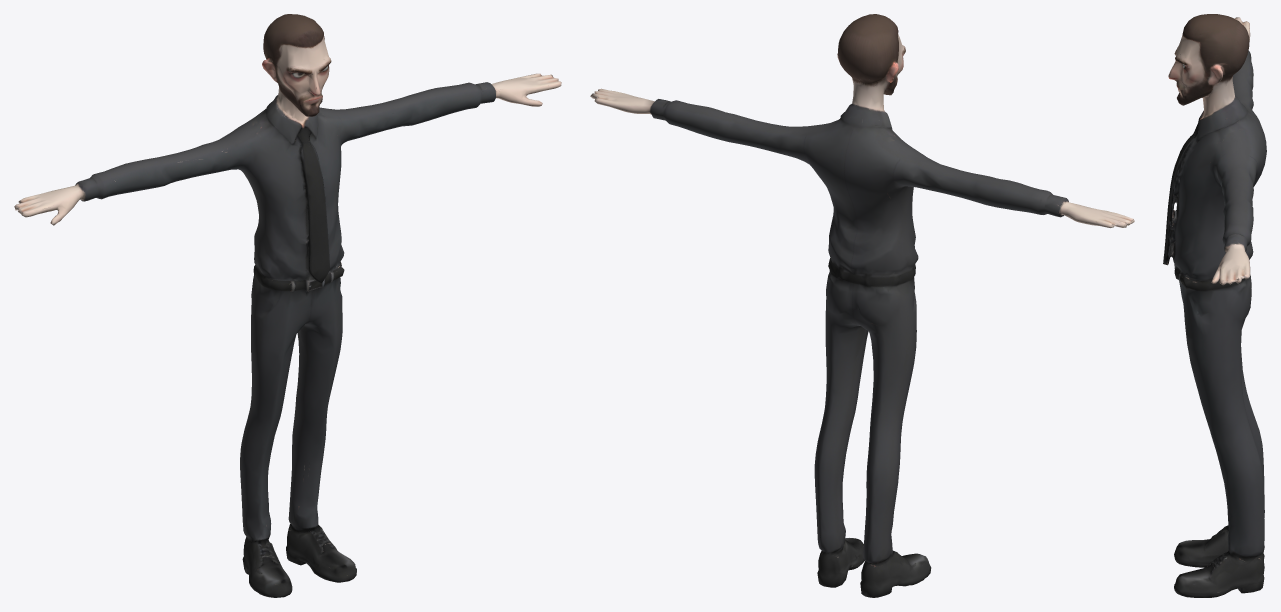
Rendered from Meshy_AI_Mysterious_Figure_in__0108085110_texture.fbx.
3 views of the same model, side by side, from view 1: azimuth 30°, elevation 25°; view 2: azimuth 150°, elevation 25°; view 3: azimuth 270°, elevation 25° (orthographic).
Visible parts, largest first — view 1: Mesh_0; view 2: Mesh_0; view 3: Mesh_0.
Boxes of the visible parts, left/top/right/bottom form: Mesh_0: left=14, top=14, right=561, bottom=597; Mesh_0: left=590, top=14, right=1134, bottom=597; Mesh_0: left=1163, top=14, right=1266, bottom=597.
Size of the model in its own units: 191 by 189 by 31.77.
Materials: 1 (1 with a texture image).
